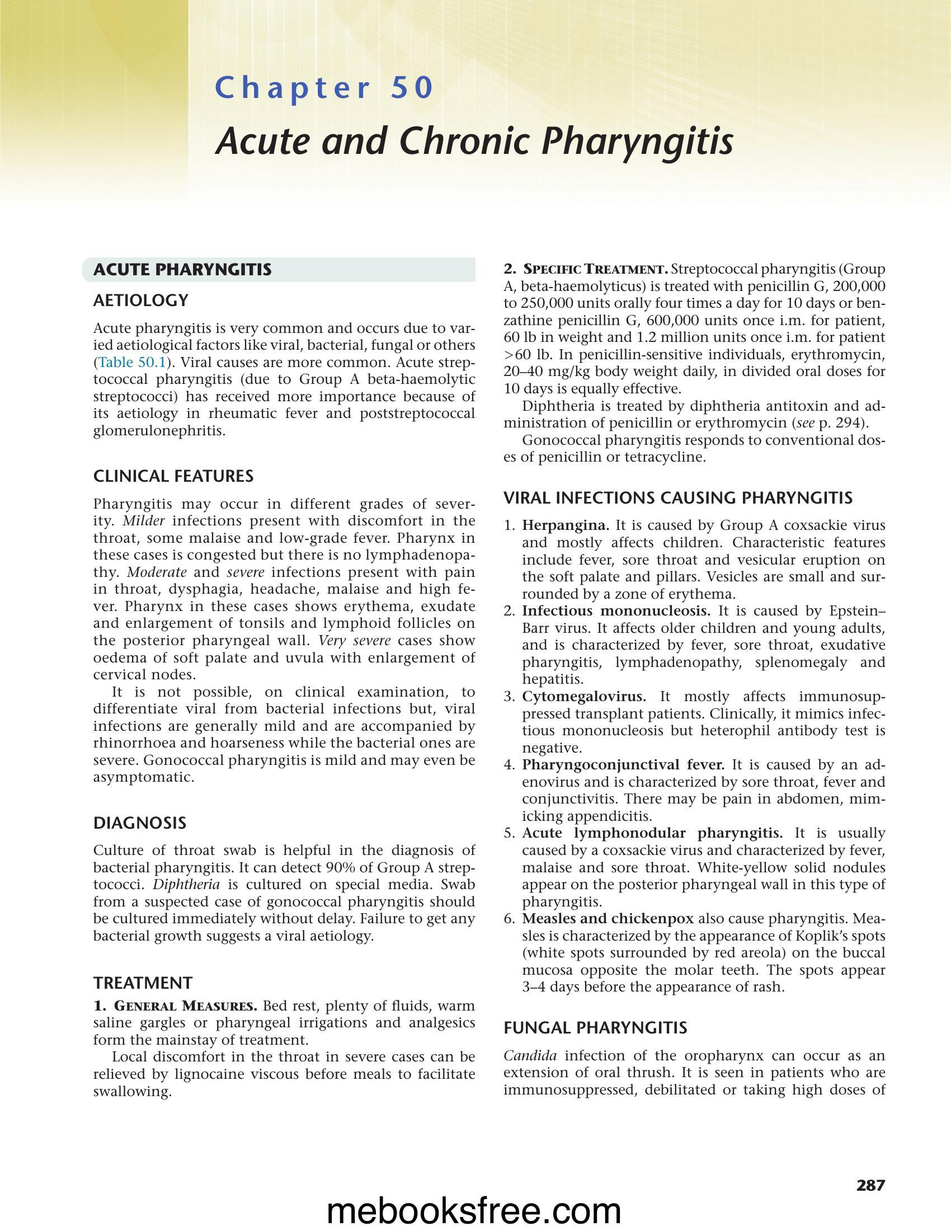chapter-heading: (213, 124, 735, 165)
list: (503, 518, 887, 997)
section-heading: (92, 262, 272, 277)
sub-section-heading: (503, 490, 854, 505), (503, 1020, 688, 1035), (93, 469, 254, 483), (92, 975, 193, 990), (94, 815, 187, 830), (92, 293, 189, 307)
text: (92, 497, 476, 787), (502, 261, 885, 466), (93, 321, 476, 440), (92, 999, 476, 1101), (92, 844, 476, 945), (503, 1048, 887, 1099)
